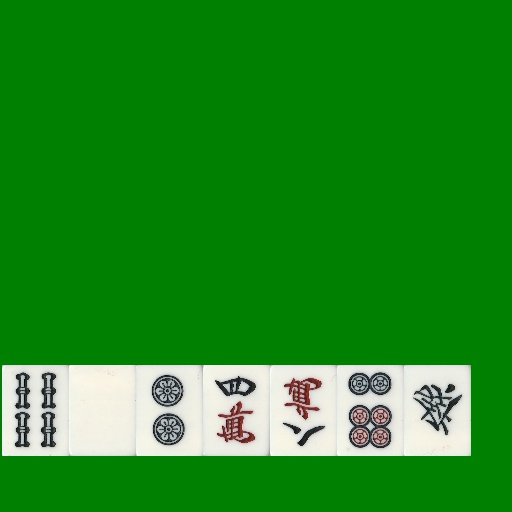2p: (136, 365, 203, 456)
4m: (203, 365, 270, 456)
4s: (2, 365, 69, 456)
6p: (337, 365, 404, 456)
8m: (270, 365, 337, 456)
hatsu: (404, 365, 471, 456)
white: (69, 365, 136, 456)
